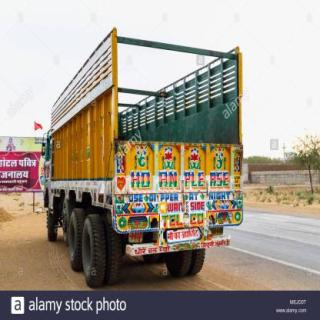Normal_vehicle: (36, 28, 250, 287)
